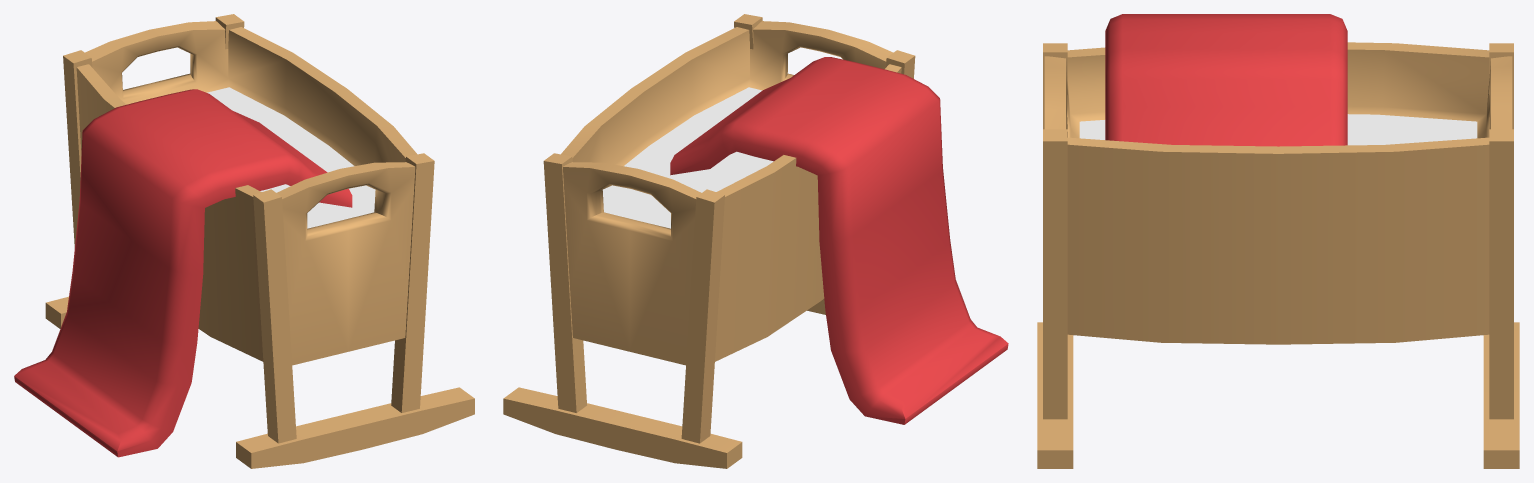
File: Bed.fbx
The picture shows the model from 3 angles, left to right: view 1: azimuth 30°, elevation 25°; view 2: azimuth 150°, elevation 25°; view 3: azimuth 270°, elevation 25°; orthographic projection. The views are drawn at different scales.
Parts seen in each view (by area): view 1: Cube.003; view 2: Cube.003; view 3: Cube.003.
Boxes of the visible parts, <box> form: Cube.003: <box>14,14,474,468</box>; Cube.003: <box>503,14,1008,468</box>; Cube.003: <box>1037,14,1519,468</box>.
Size of the model in its own units: 110 by 89.6 by 119.
